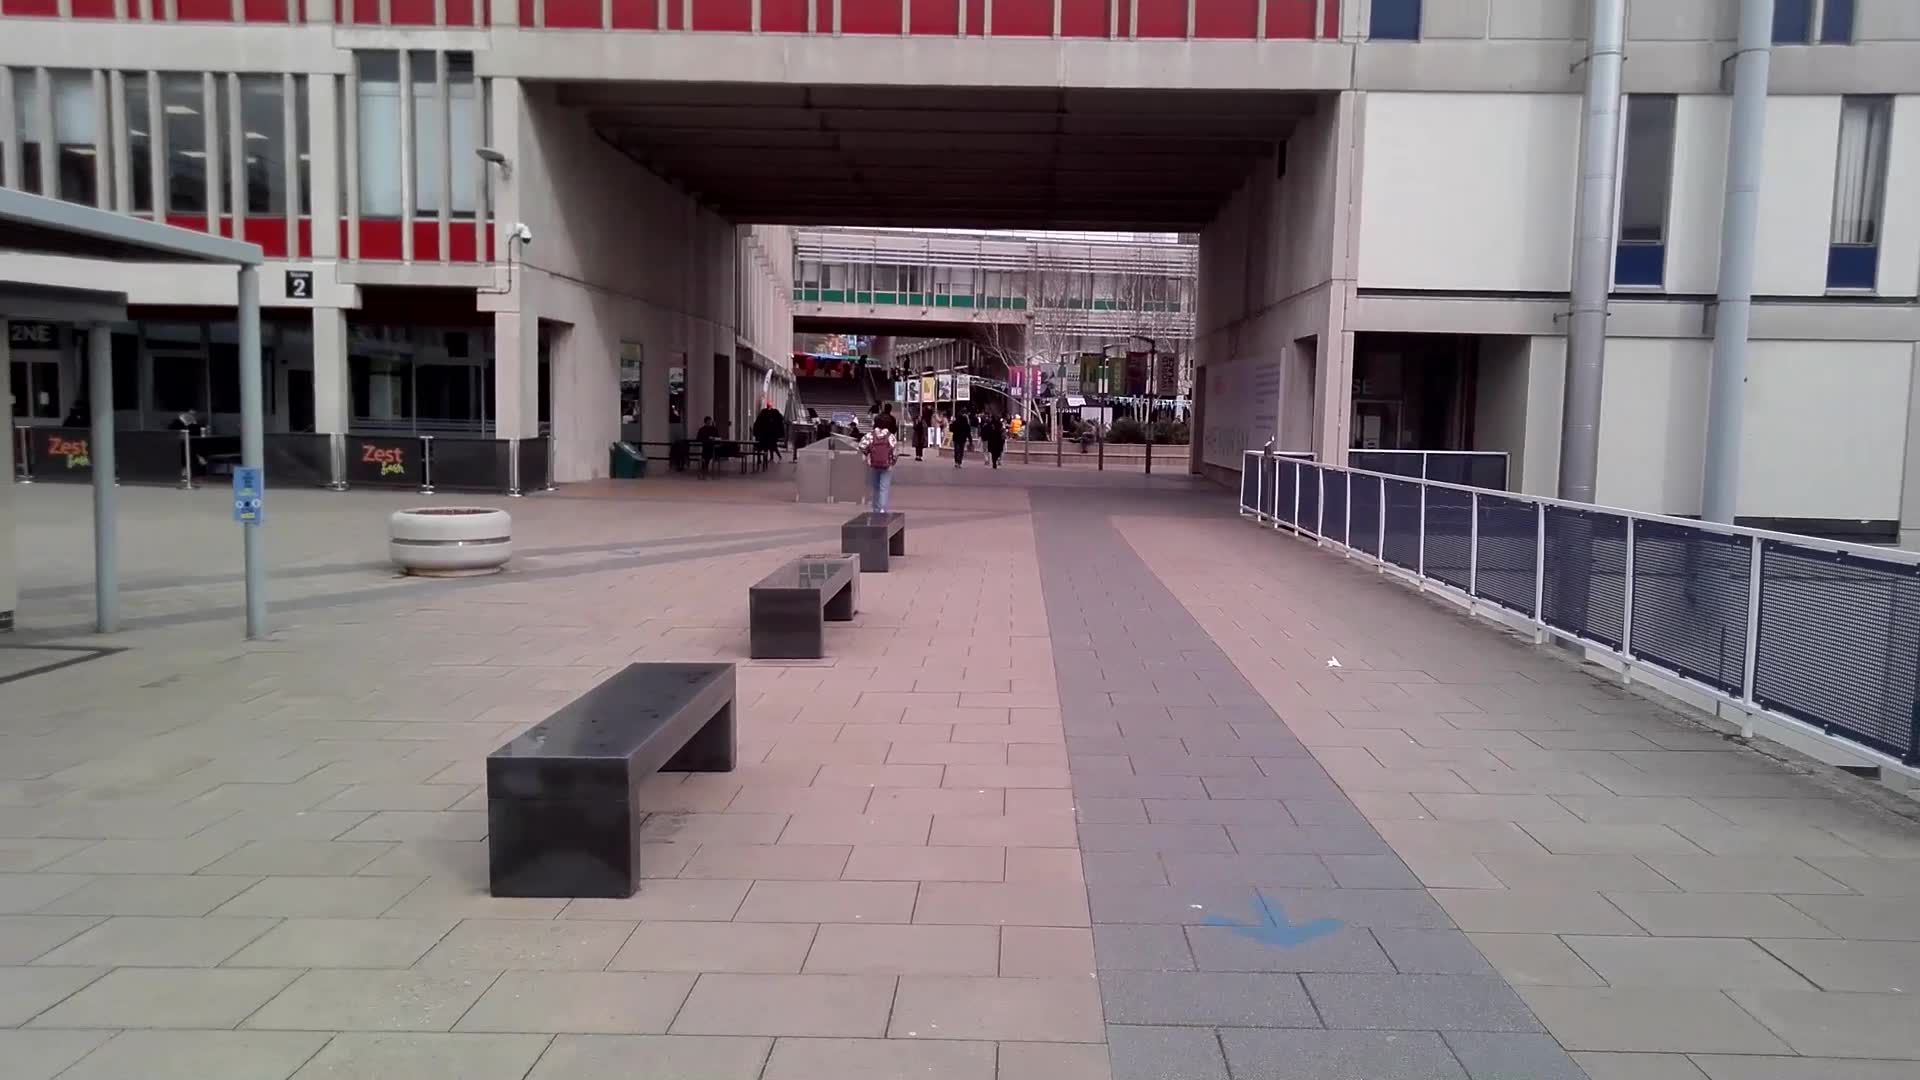Backpack: (868, 434, 894, 474)
Bench: (489, 663, 736, 894), (754, 551, 862, 666), (844, 510, 916, 571)
Bin: (796, 435, 833, 507)
Person: (861, 415, 904, 507)
